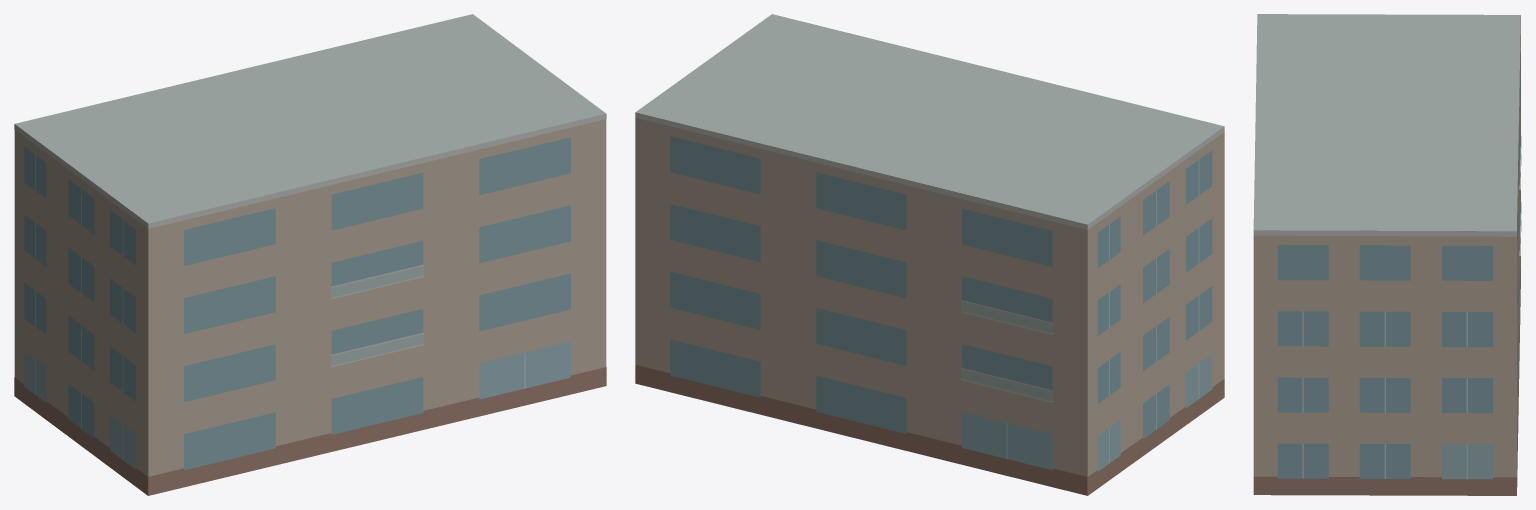
Rendered from residential-3cde5476-2beb-423e-801a-76e5f4fb83c4.glb.
The picture shows the model from 3 angles, left to right: view 1: azimuth 30°, elevation 25°; view 2: azimuth 150°, elevation 25°; view 3: azimuth 270°, elevation 25°; orthographic projection. The views are drawn at different scales.
Parts seen in each view (by area): view 1: residential-3cde5476-2beb-423e-801a-76e5f4fb83c4.tmp; view 2: residential-3cde5476-2beb-423e-801a-76e5f4fb83c4.tmp; view 3: residential-3cde5476-2beb-423e-801a-76e5f4fb83c4.tmp.
Part boxes in pixels (left/top/right/bottom): residential-3cde5476-2beb-423e-801a-76e5f4fb83c4.tmp: left=14, top=14, right=606, bottom=495; residential-3cde5476-2beb-423e-801a-76e5f4fb83c4.tmp: left=635, top=14, right=1224, bottom=495; residential-3cde5476-2beb-423e-801a-76e5f4fb83c4.tmp: left=1253, top=14, right=1521, bottom=495.
Bounding box in the file's own units: 21.49 × 12.2 × 11.2.
